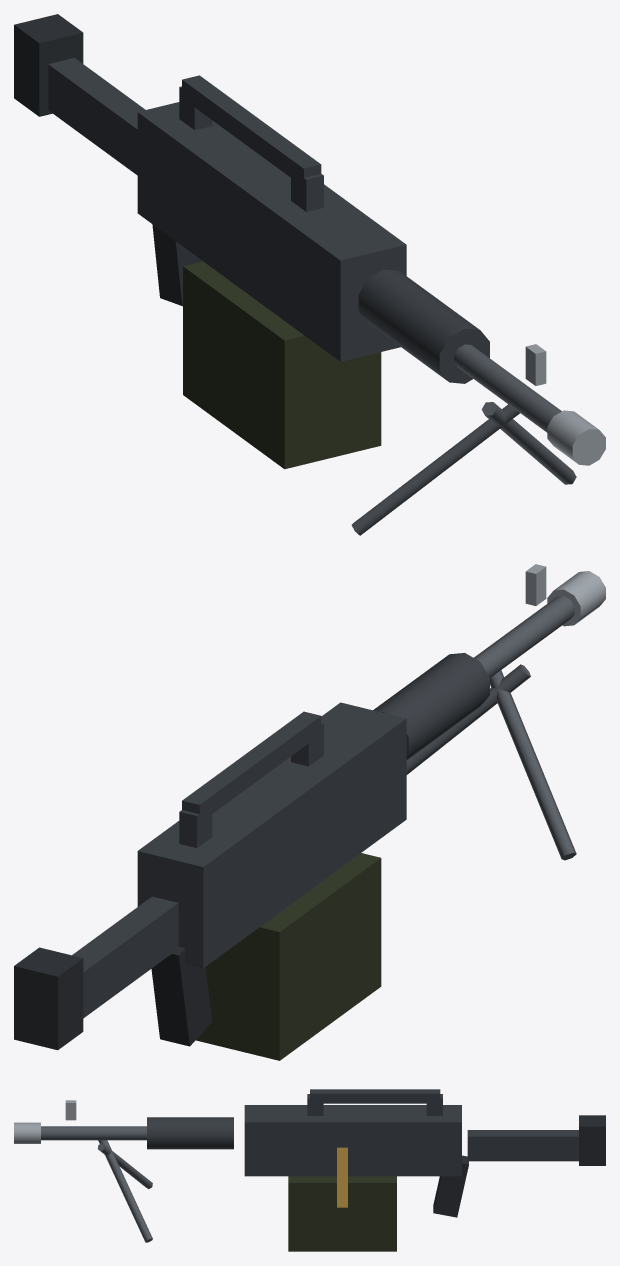
Rendered from LMG.gltf.
The picture shows the model from 3 angles, top to bottom: view 1: azimuth 30°, elevation 25°; view 2: azimuth 150°, elevation 25°; view 3: azimuth 270°, elevation 25°; orthographic projection. The views are drawn at different scales.
Visible parts, largest first — view 1: WeaponLMG; view 2: WeaponLMG; view 3: WeaponLMG.
Part boxes in pixels (x1,y1,x2,y2): WeaponLMG: [14, 14, 605, 535]; WeaponLMG: [14, 564, 605, 1060]; WeaponLMG: [14, 1089, 605, 1251].
Size of the model in its own units: 0.2523 by 0.3 by 1.09.
